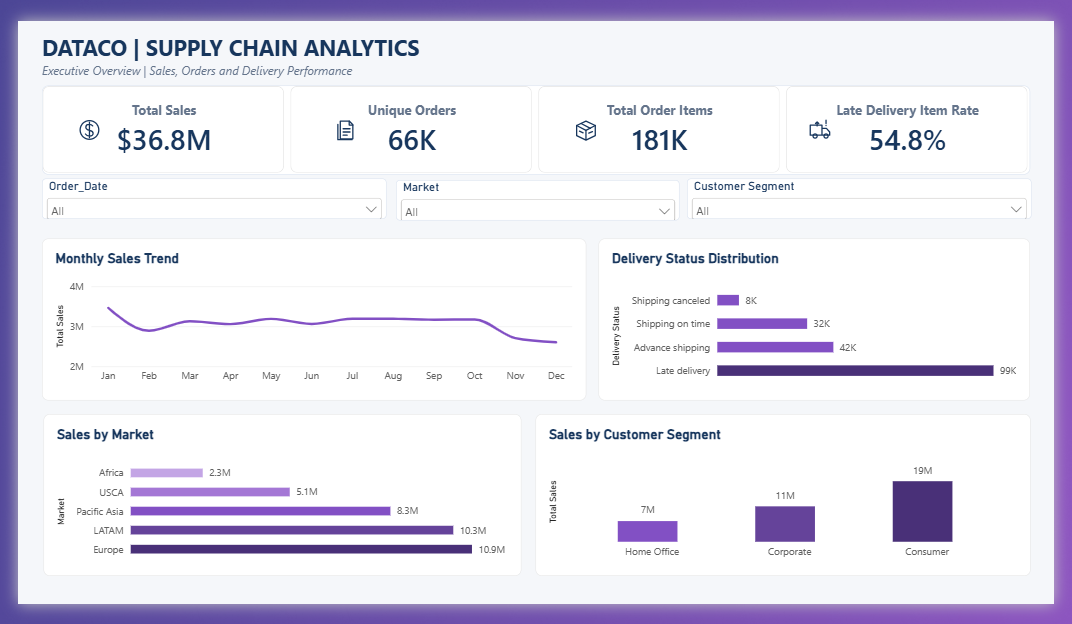

This screenshot's page, from the dashboard's own definition file:
{"tool":"powerbi","page":{"name":"Executive Overview","canvas":[1280,720],"ordinal":0},"visuals":[{"type":"cardVisual","fields":{"Data":["Measure.Total Sales","Measure.Unique Orders","Measure.Total Order Items","Measure.Late Delivery Rate"]},"box":[30,80.2,1220,109.8],"z":0,"group":"g1"},{"type":"textbox","box":[30,15,900,65.2],"z":1000,"group":"g1"},{"type":"lineChart","title":"Monthly Sales Trend","fields":{"Category":["DataCo_SupplyChain.Month Name"],"Y":["Measure.Total Sales"]},"box":[29.7,268.8,672.1,200.1],"z":1000},{"type":"image","box":[73.5,118.8,32,32],"z":2000,"group":"g1"},{"type":"image","box":[389.2,118.8,32,32],"z":3000,"group":"g1"},{"type":"slicer","fields":{"Values":["DataCo_SupplyChain.Order_Date"]},"box":[29.7,195,425,50],"z":3000},{"type":"image","box":[686.2,118.8,32,32],"z":4000,"group":"g1"},{"type":"slicer","fields":{"Values":["DataCo_SupplyChain.Market"]},"box":[465.8,195.4,350,50],"z":4000},{"type":"image","box":[973.7,118.8,32,32],"z":5000,"group":"g1"},{"type":"slicer","fields":{"Values":["DataCo_SupplyChain.Customer Segment"]},"box":[825.3,195,425.1,50],"z":5000},{"type":"clusteredBarChart","title":"Sales by Market","fields":{"Category":["DataCo_SupplyChain.Market"],"Y":["Sum(DataCo_SupplyChain.Sales)"]},"box":[31,485,590,200],"z":6000},{"type":"clusteredColumnChart","title":"Sales by Customer Segment","fields":{"Category":["DataCo_SupplyChain.Customer Segment"],"Y":["Measure.Total Sales"]},"box":[639.3,484.5,611.1,200.1],"z":7000},{"type":"clusteredBarChart","title":"Delivery Status Distribution","fields":{"Category":["DataCo_SupplyChain.Delivery Status"],"Y":["Count(DataCo_SupplyChain.Order Item Id)"]},"box":[717.4,268.8,533,200.1],"z":8000},{"type":"group","id":"g1","title":"Group 1","box":[30,15,1220,175],"z":10003}]}

Visuals, with their boxes on the page's 1280x720 design canvas (x1, y1, x2, y2). These are canvas units, not pixel positions in the 1072x624 screenshot, which may show the page scaled, cropped or inside an application window:
cardVisual - Measure.Total Sales x Measure.Unique Orders: Rect(30, 80, 1250, 190)
textbox: Rect(30, 15, 930, 80)
"Monthly Sales Trend" lineChart: Rect(30, 269, 702, 469)
image: Rect(74, 119, 106, 151)
image: Rect(389, 119, 421, 151)
slicer - DataCo_SupplyChain.Order_Date: Rect(30, 195, 455, 245)
image: Rect(686, 119, 718, 151)
slicer - DataCo_SupplyChain.Market: Rect(466, 195, 816, 245)
image: Rect(974, 119, 1006, 151)
slicer - DataCo_SupplyChain.Customer Segment: Rect(825, 195, 1250, 245)
"Sales by Market" clusteredBarChart: Rect(31, 485, 621, 685)
"Sales by Customer Segment" clusteredColumnChart: Rect(639, 484, 1250, 685)
"Delivery Status Distribution" clusteredBarChart: Rect(717, 269, 1250, 469)
"Group 1" group: Rect(30, 15, 1250, 190)
